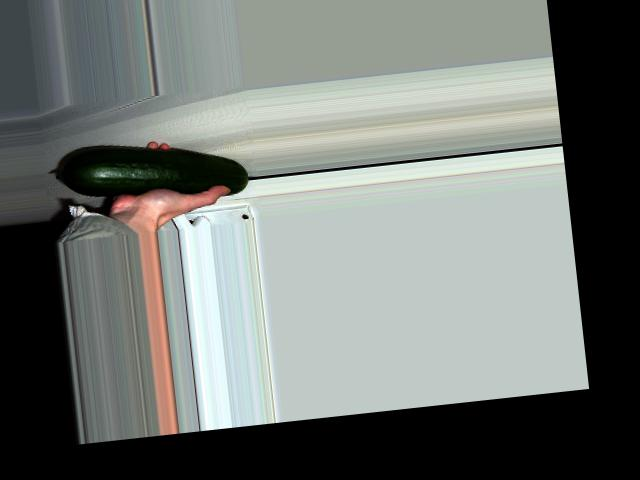cucumber: (53, 129, 250, 213)
